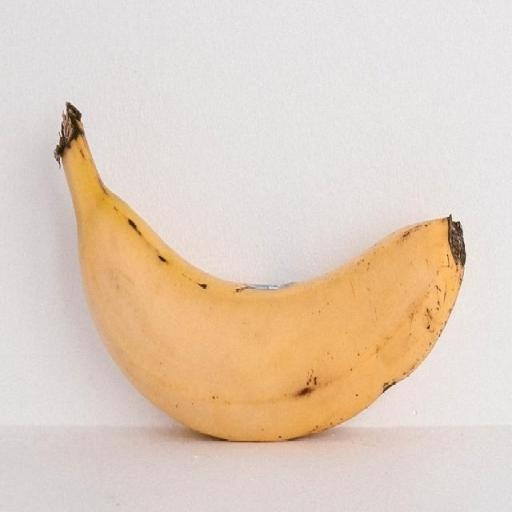fruit: (56, 104, 465, 440)
